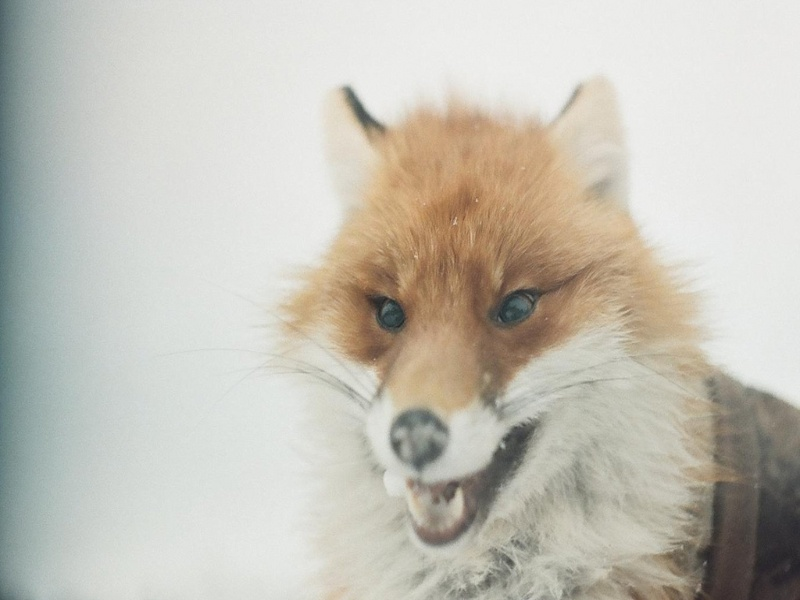fox: (255, 74, 720, 600)
